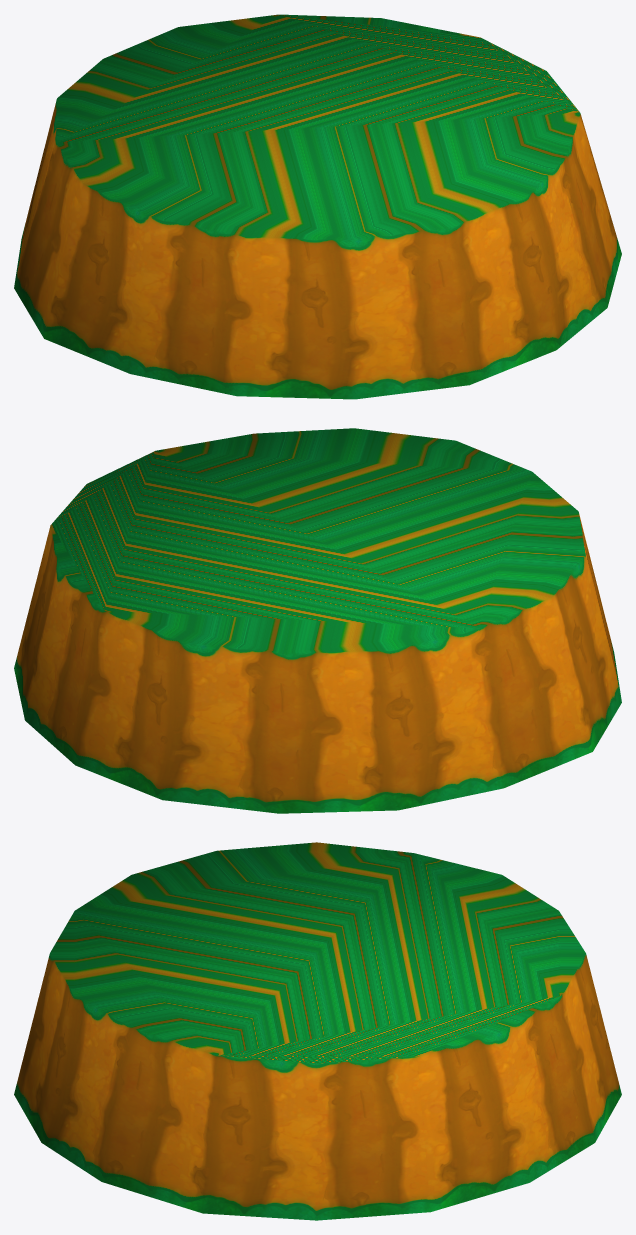
File: Hill01_a01_col.FBX
3 renders of one model, top to bottom at view 1: azimuth 30°, elevation 25°; view 2: azimuth 150°, elevation 25°; view 3: azimuth 270°, elevation 25°, orthographic. The views are drawn at different scales.
Visible parts, largest first — view 1: Hill01_a01_col; view 2: Hill01_a01_col; view 3: Hill01_a01_col.
Boxes of the visible parts, x1,y1,x2,y2 form: Hill01_a01_col: [14, 14, 621, 399]; Hill01_a01_col: [14, 428, 621, 813]; Hill01_a01_col: [14, 842, 621, 1220].
Bounding box in the file's own units: 991 × 256 × 995.
1 material, 1 textured.
